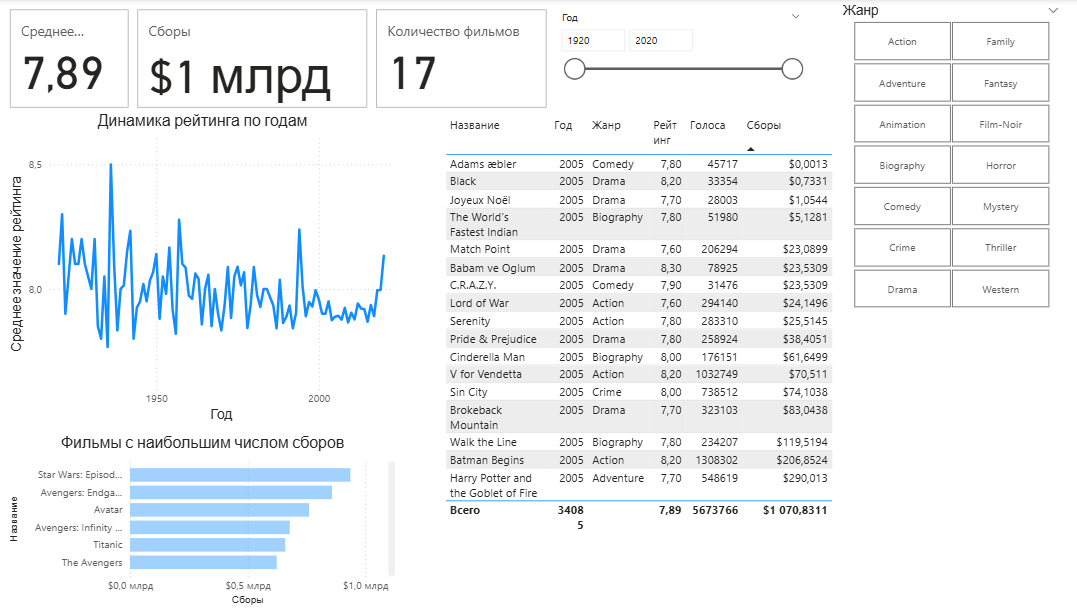

The page's visual inventory and layout, read from the dashboard file:
{"tool":"powerbi","page":{"name":"Страница 1","canvas":[1280,720],"ordinal":0},"visuals":[{"type":"cardVisual","fields":{"Data":["Avg(imdb_clean.rating_)"]},"box":[9.6,6.9,150.9,126.2],"z":0},{"type":"cardVisual","fields":{"Data":["Sum(imdb_clean.gross_)"]},"box":[160.5,6.9,281.3,126.2],"z":1000},{"type":"cardVisual","fields":{"Data":["imdb_clean.Films Count"]},"box":[441.9,6.9,211.3,126.2],"z":2000},{"type":"slicer","fields":{"Values":["imdb_clean.main_genre"]},"box":[983.9,0,279.9,370.5],"z":3000},{"type":"slicer","fields":{"Values":["imdb_clean.year_m"]},"box":[653.2,11,306,116.6],"z":4000},{"type":"lineChart","title":"Динамика рейтинга по годам","fields":{"Y":["Avg(imdb_clean.rating_)"],"Category":["imdb_clean.year_m"]},"box":[9.6,133.1,463.8,370.5],"z":5000},{"type":"clusteredBarChart","title":"Фильмы с наибольшим числом сборов","fields":{"Category":["imdb_clean.title"],"Y":["Sum(imdb_clean.gross_)"]},"box":[10,513,464,207],"z":6000},{"type":"tableEx","fields":{"Values":["imdb_clean.title","Sum(imdb_clean.year_m)","imdb_clean.main_genre","Avg(imdb_clean.rating_)","Sum(imdb_clean.votes)","Sum(imdb_clean.Gross_mln)"]},"box":[523,132.6,484.7,587.8],"z":7000}]}

Visuals, with their boxes in screenshot pixels (x1, y1, x2, y2), scaled from the page's 1280x720 canvas onto the 1077x608 screenshot:
cardVisual - Avg(imdb_clean.rating_): detection(8, 6, 135, 112)
cardVisual - Sum(imdb_clean.gross_): detection(135, 6, 372, 112)
cardVisual - imdb_clean.Films Count: detection(372, 6, 550, 112)
slicer - imdb_clean.main_genre: detection(828, 0, 1063, 313)
slicer - imdb_clean.year_m: detection(550, 9, 807, 108)
"Динамика рейтинга по годам" lineChart: detection(8, 112, 398, 425)
"Фильмы с наибольшим числом сборов" clusteredBarChart: detection(8, 433, 399, 607)
tableEx - imdb_clean.title x Sum(imdb_clean.year_m): detection(440, 112, 848, 607)
